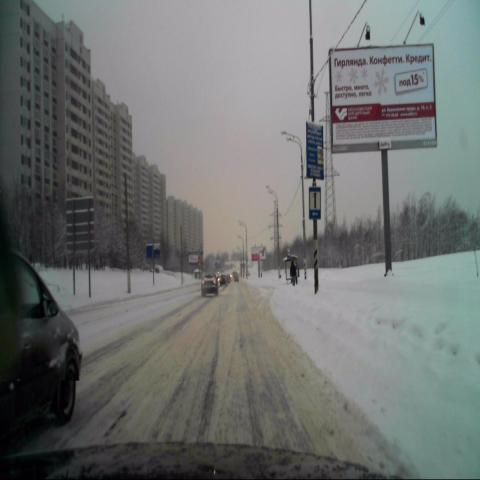7_4: (309, 185, 321, 218)
